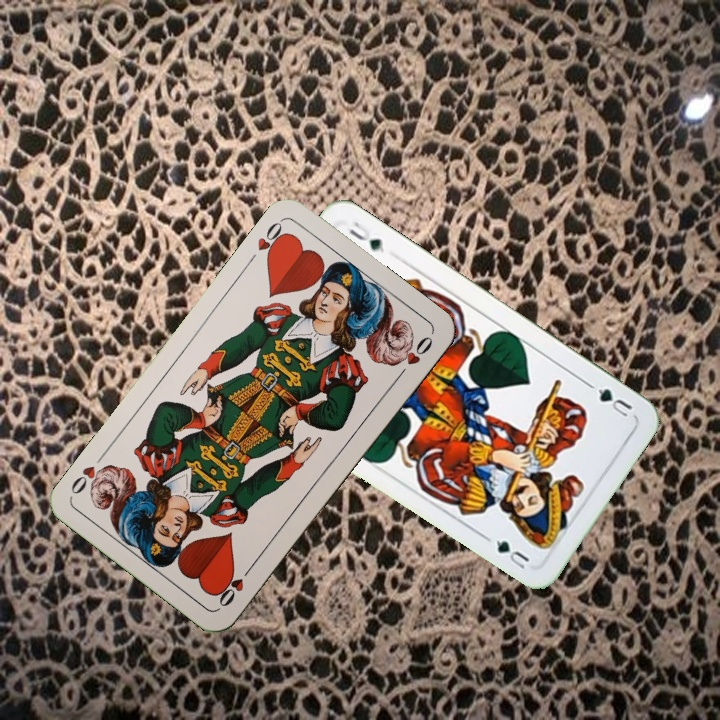GU: (594, 384, 635, 420)
HO: (214, 560, 257, 610), (253, 216, 291, 264)
